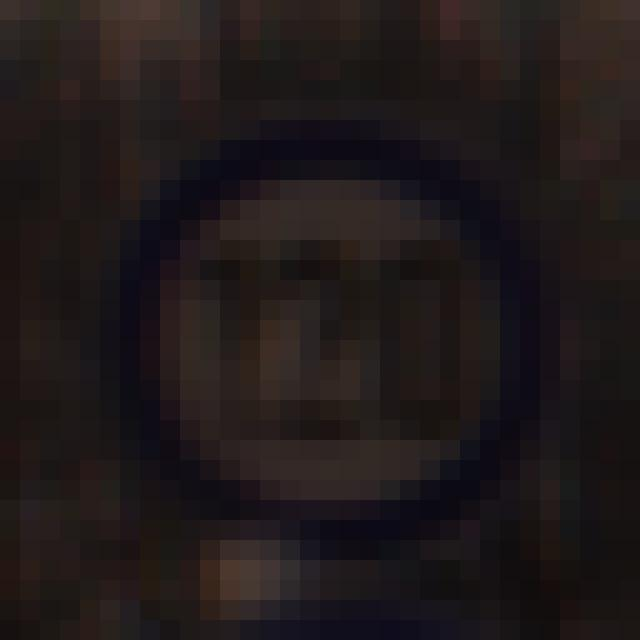SPEED LIMIT 120: (109, 115, 536, 532)
